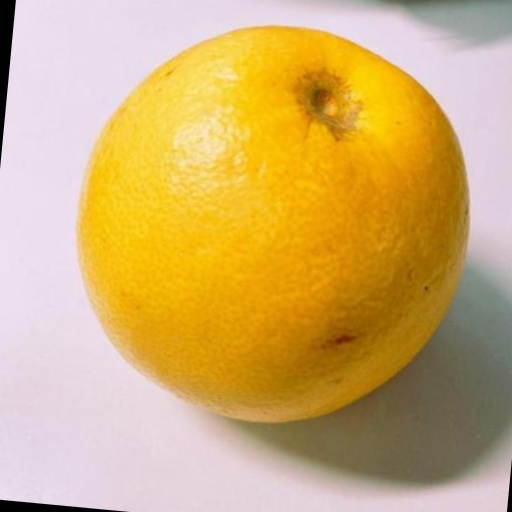fruit: (77, 27, 468, 422)
